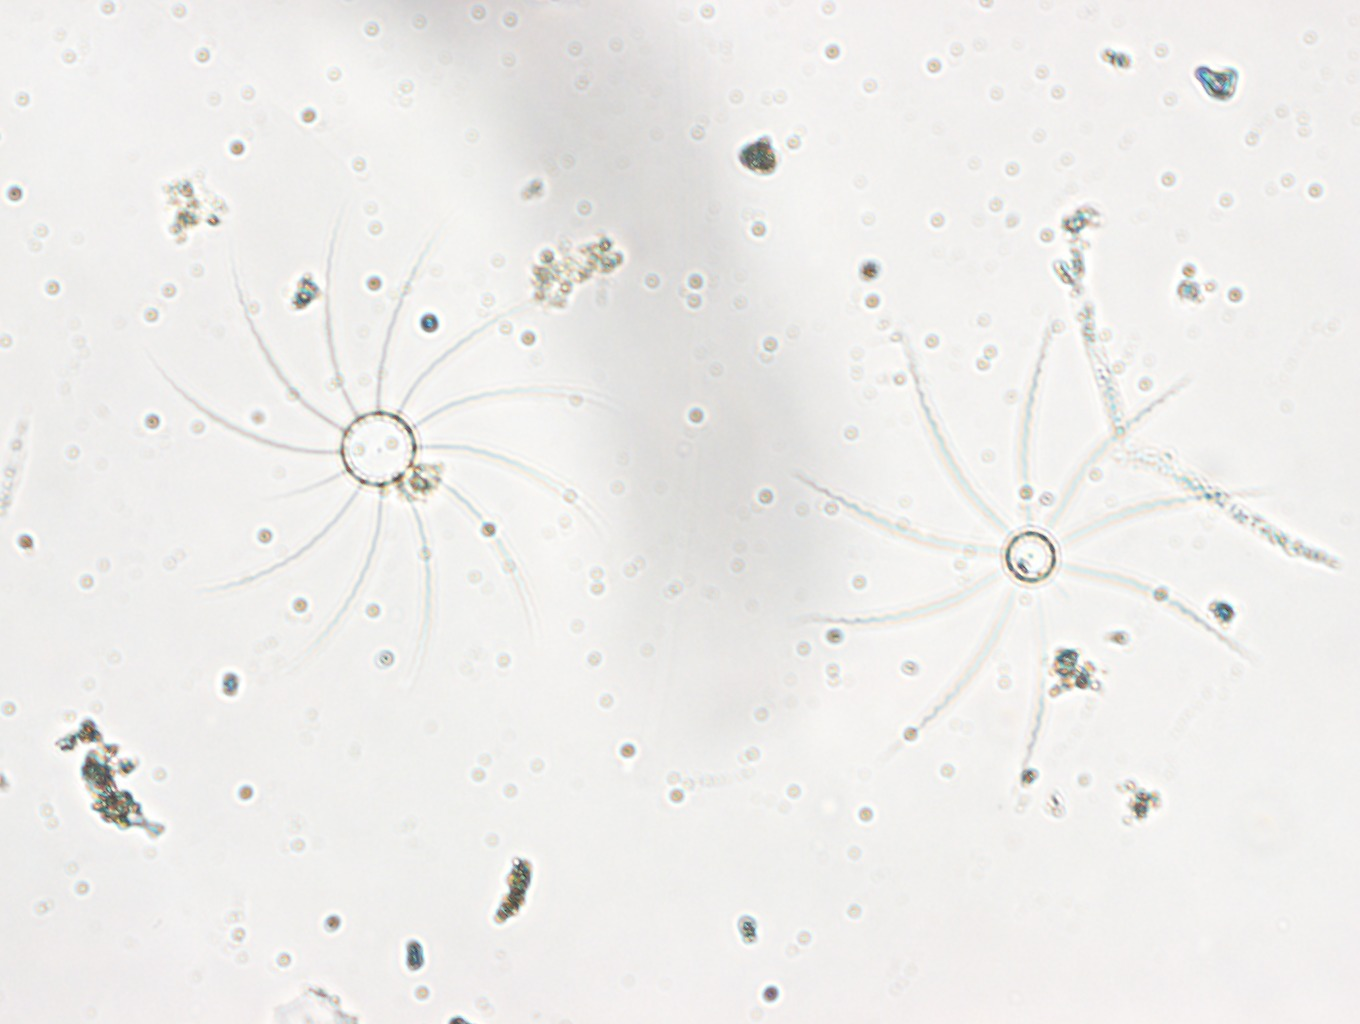bacteriastrum: (149, 207, 625, 695), (789, 310, 1278, 774)
